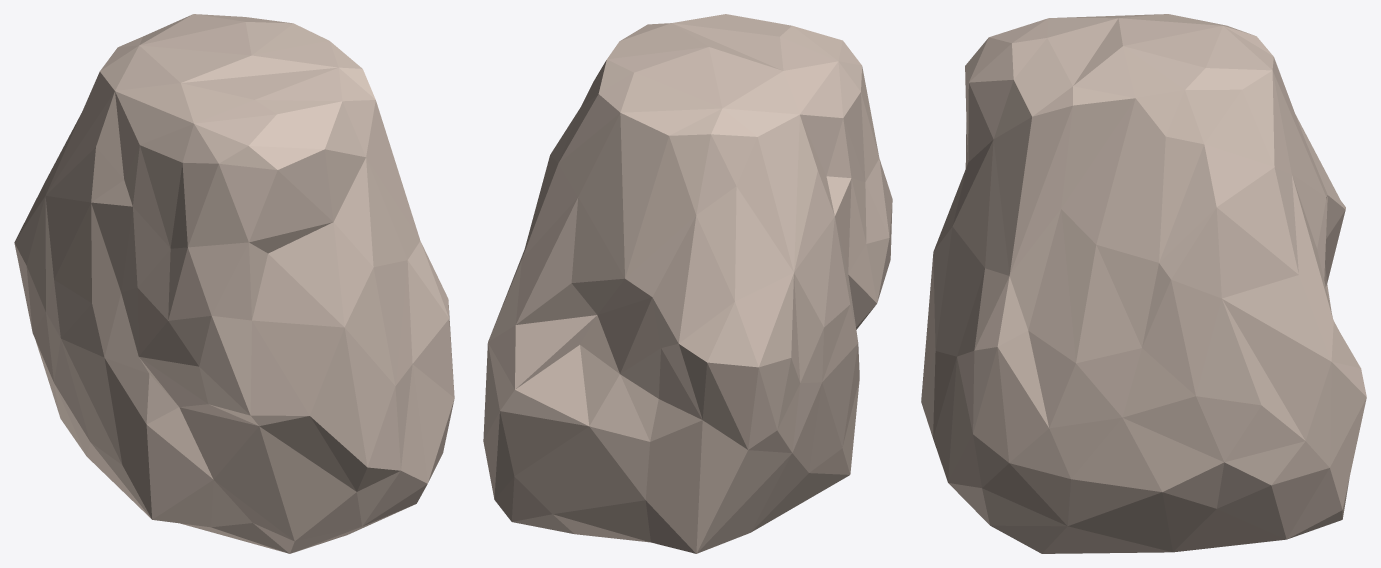
Rendered from e_gesso_004.fbx.
3 views of the same model, side by side, from view 1: azimuth 30°, elevation 25°; view 2: azimuth 150°, elevation 25°; view 3: azimuth 270°, elevation 25° (orthographic). The views are drawn at different scales.
Parts seen in each view (by area): view 1: e_gesso_lowpoly_001; view 2: e_gesso_lowpoly_001; view 3: e_gesso_lowpoly_001.
Part boxes in pixels (<box>): e_gesso_lowpoly_001: <box>14,14,454,553</box>; e_gesso_lowpoly_001: <box>483,14,892,553</box>; e_gesso_lowpoly_001: <box>921,14,1366,553</box>.
Bounding box in the file's own units: 40.12 × 55.99 × 48.72.
